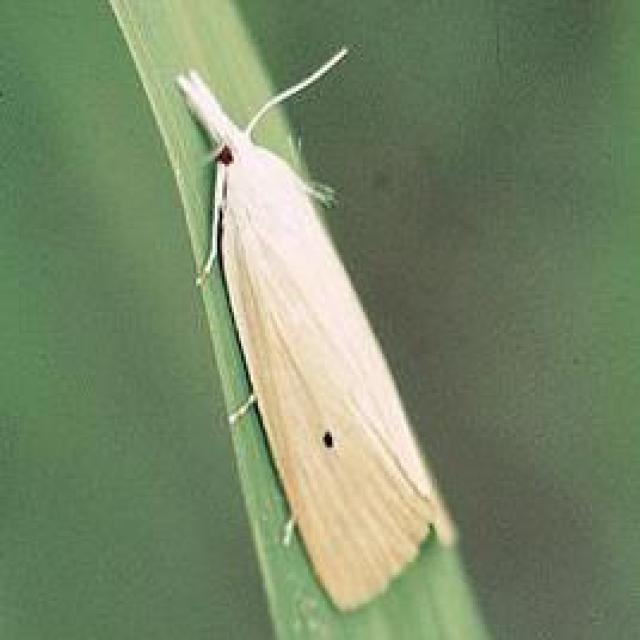yellow-stem-borer: (129, 34, 479, 611)
